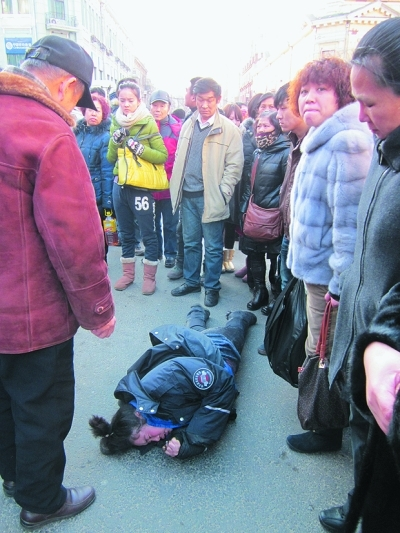10+: (1, 23, 399, 533)
down: (100, 302, 267, 471)
